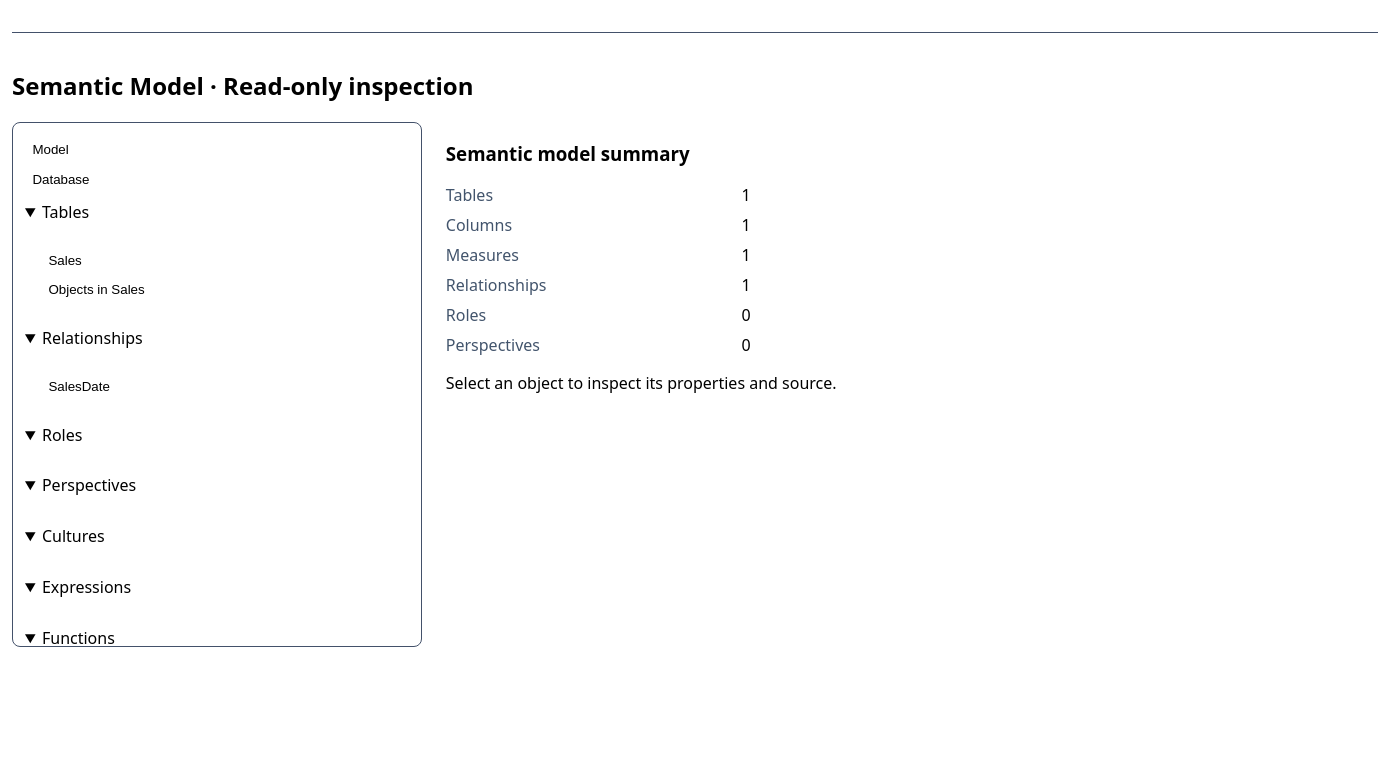
Scenario: semantic inspection › inspects a table
Click the button "Objects in Sales".
click(80, 290)  # box [41,275,409,305]
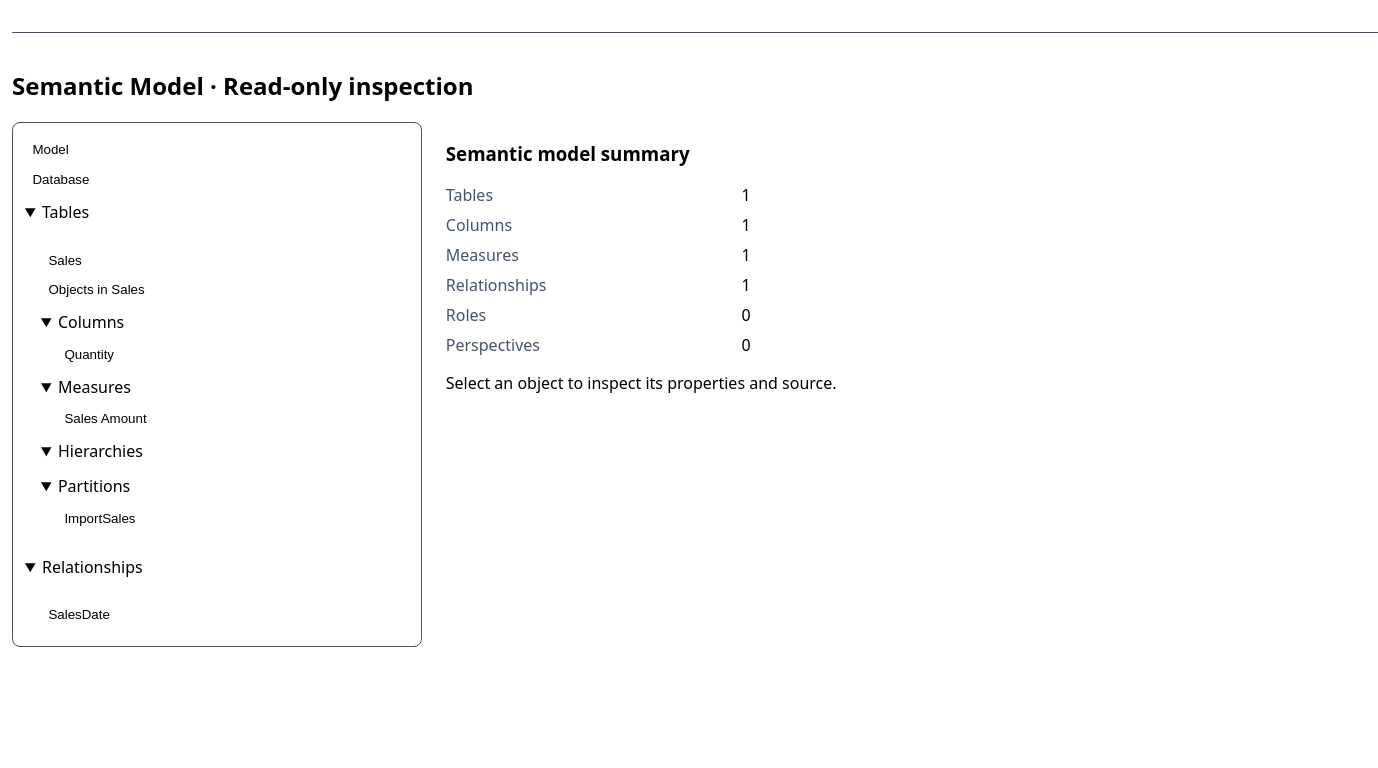
Click the button with aria-label "Table: Sales".
click(65, 260)  # box [41,245,409,275]
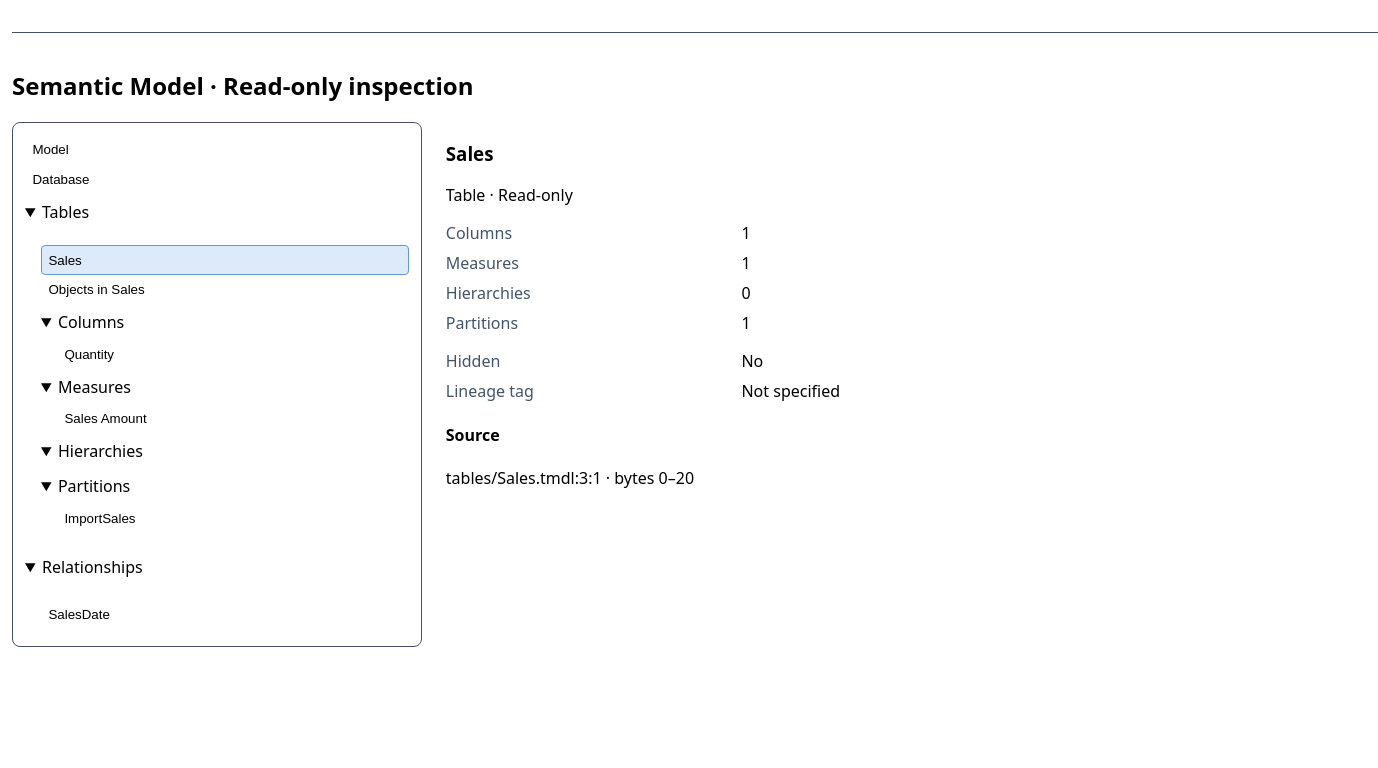
Expected: the text "Table · Read-only" is shown, [446,184,573,206]
